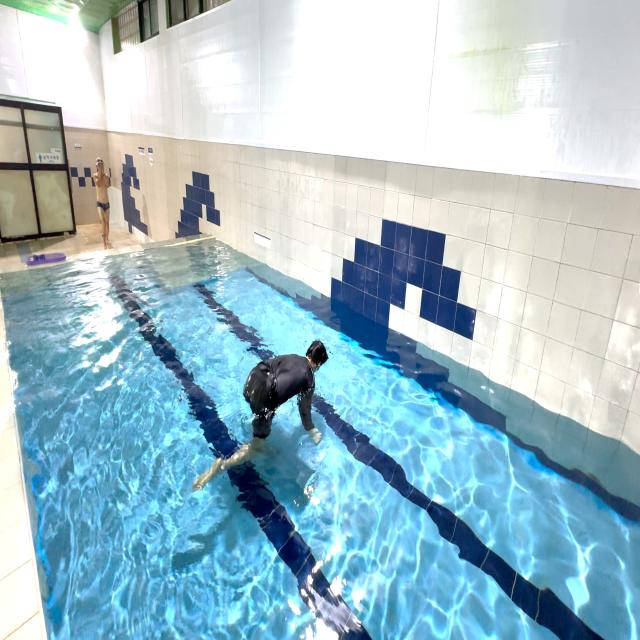Swimming: (189, 325, 336, 498)
